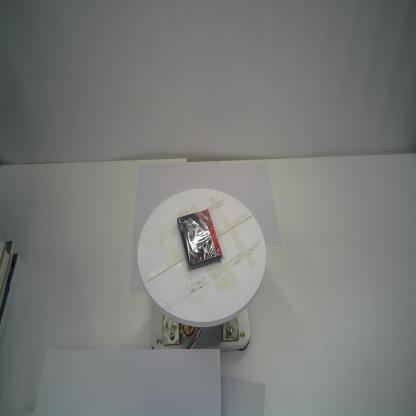Gum: (175, 208, 223, 272)
